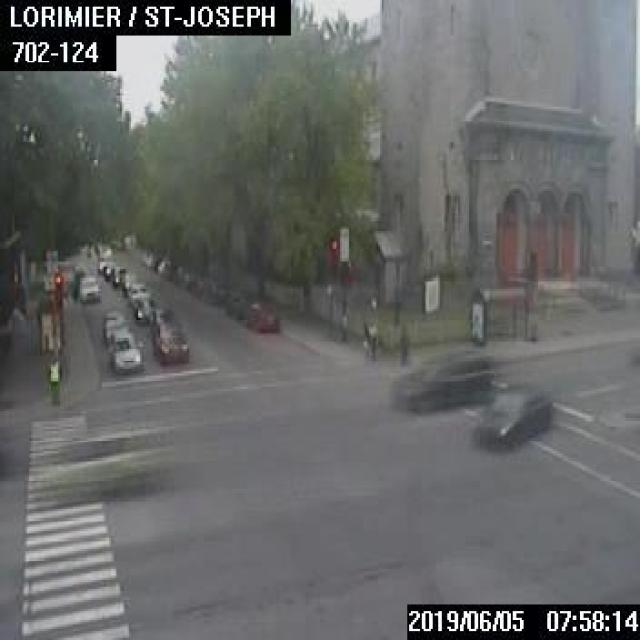pedestrian: (361, 317, 376, 358), (398, 324, 408, 364)
vehicle: (390, 349, 489, 410), (472, 390, 552, 444), (151, 323, 187, 363), (107, 330, 142, 370), (245, 300, 278, 329), (224, 290, 248, 318), (103, 311, 127, 338), (132, 296, 156, 322), (148, 306, 174, 328), (77, 274, 99, 300), (126, 282, 147, 304), (97, 250, 115, 272), (121, 273, 136, 293), (112, 264, 125, 285), (140, 251, 157, 266), (156, 258, 170, 274), (102, 263, 115, 279)
